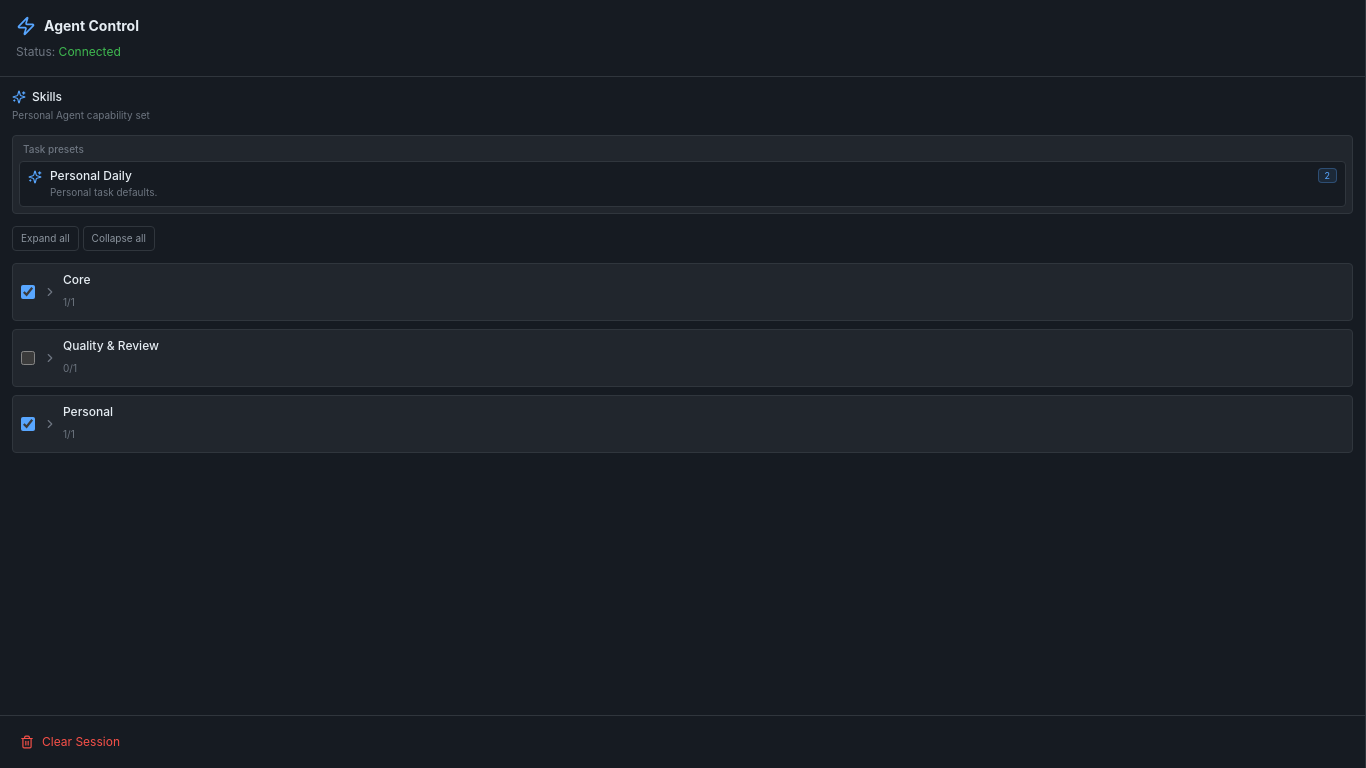
Sidebar › renders skills catalog instead of quick tools
The image size is (1366, 768).
Check: the text "Core" is shown, box [63,272,90,286]
Check: the text "using-superpowers" is not shown
Click the button with aria-label "Expand Core": (50, 292) [43,272,1344,312]
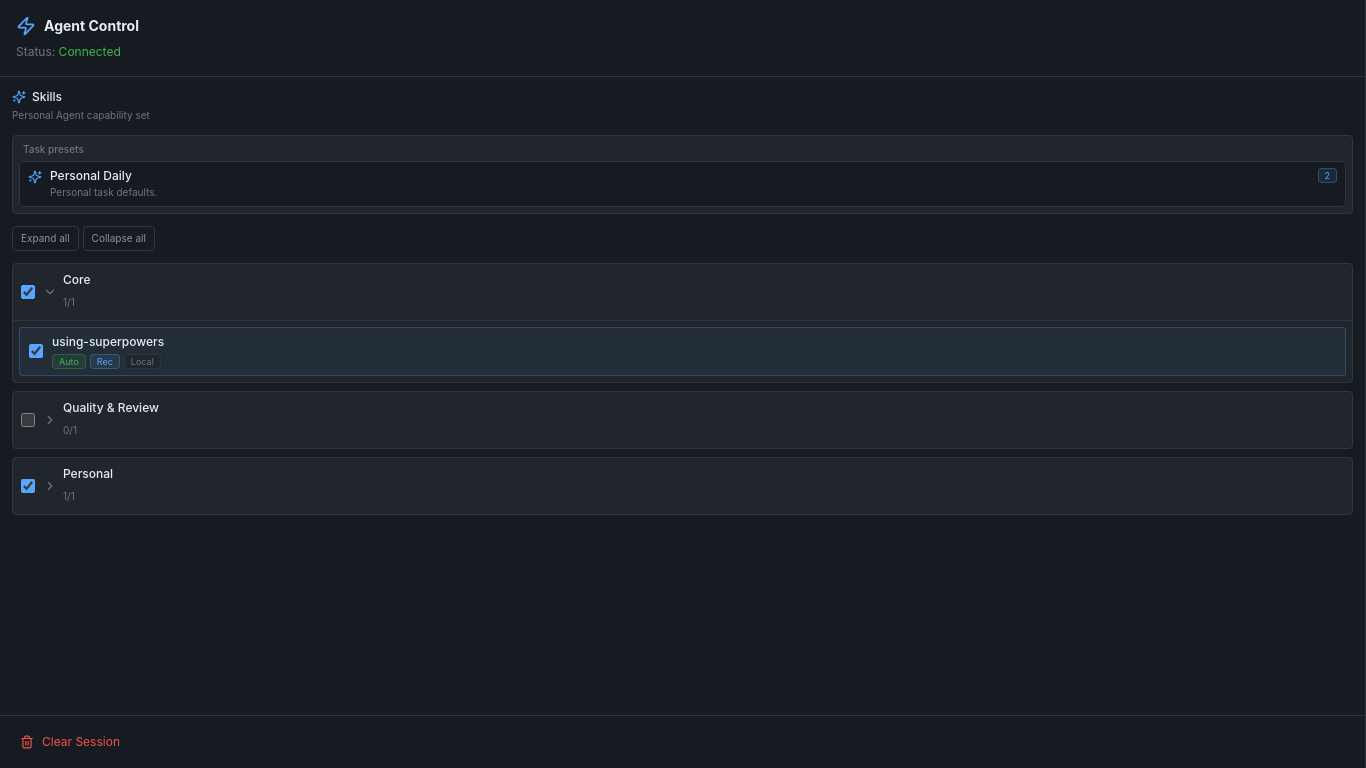
Check: the text "Quality & Review" is shown, box [63,400,159,414]
Check: the text "using-superpowers" is shown, box [52,334,164,348]
